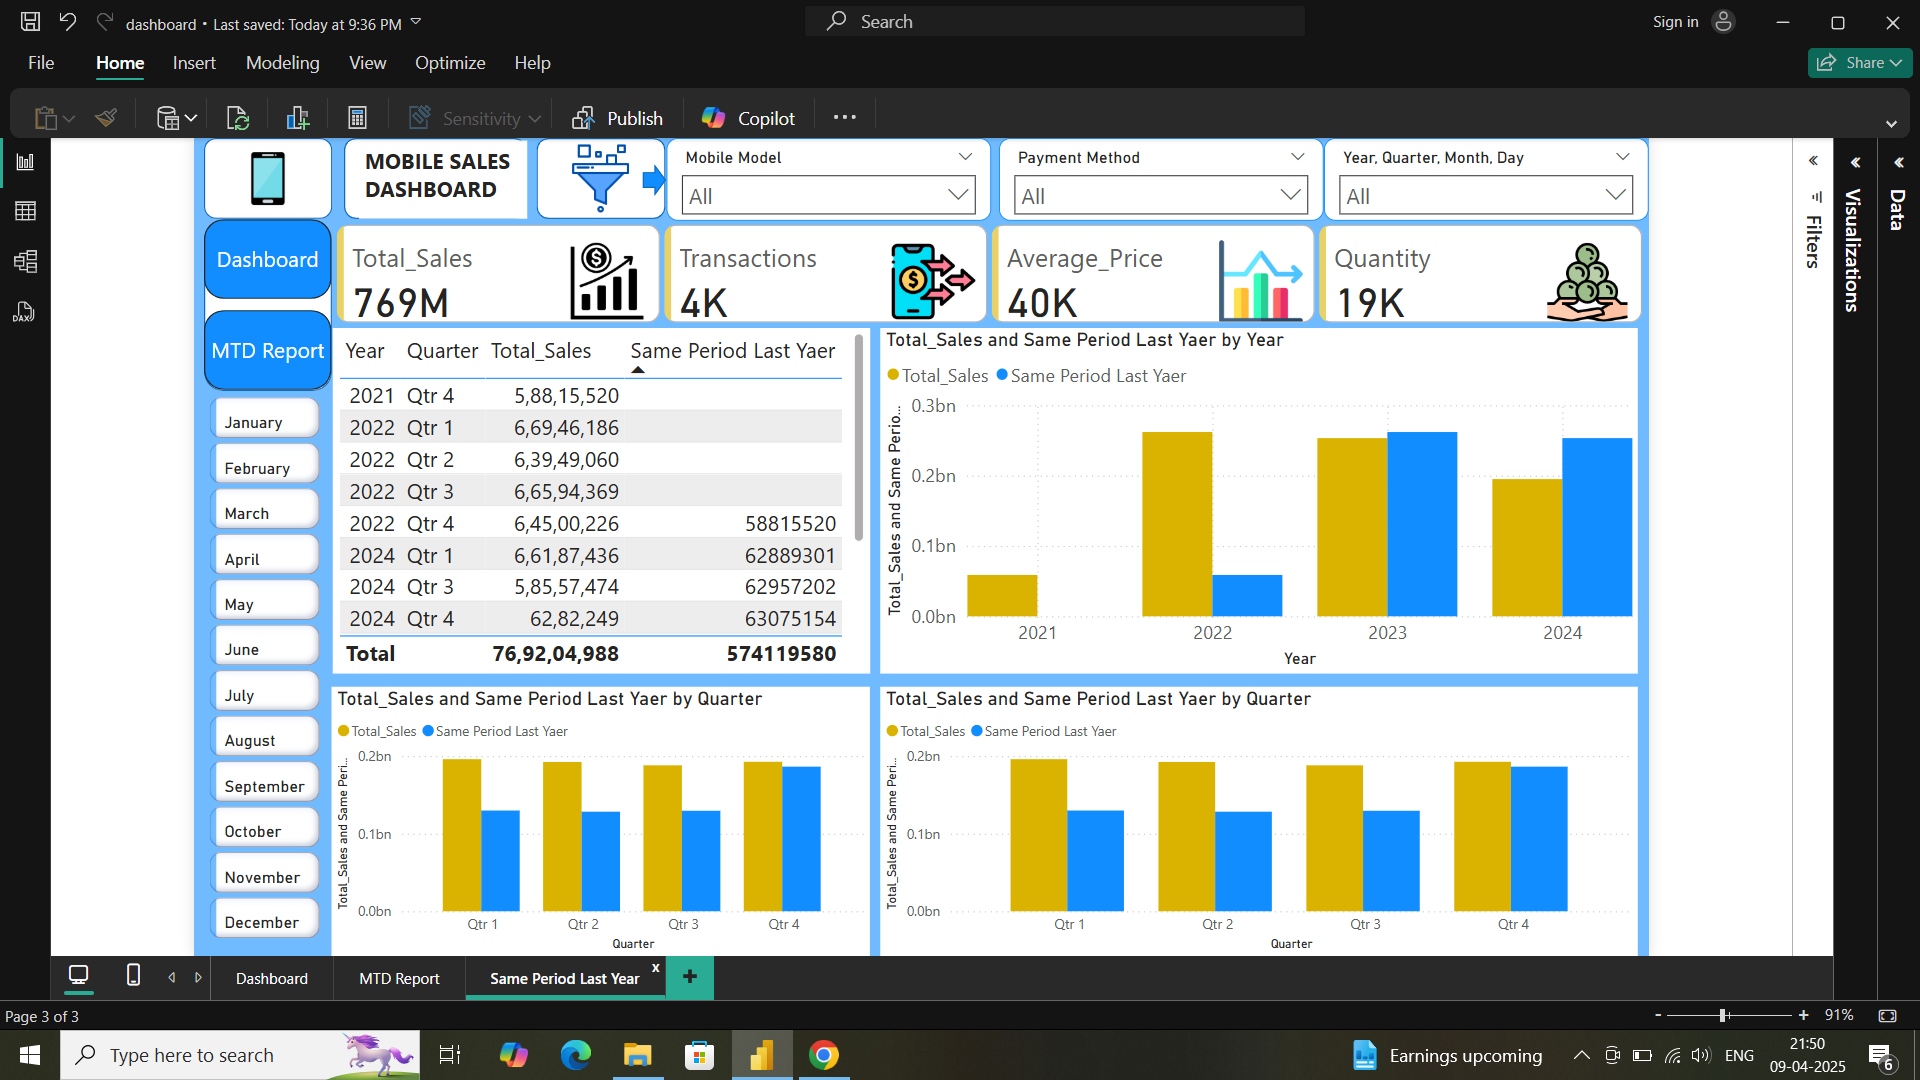

What the dashboard file says about the page in this screenshot:
{"tool":"powerbi","page":{"name":"Same Period Last Year","canvas":[1280,720],"ordinal":2},"visuals":[{"type":"shape","box":[8.6,0,112.9,71.2],"z":0},{"type":"image","box":[19.6,0,90.8,71.2],"z":1000},{"type":"cardVisual","fields":{"Data":["Sales_Data.Total_Sales","Sales_Data.Transactions","Sales_Data.Average_Price","Sales_Data.Quantity"]},"box":[121,71.4,1158.4,96.8],"z":2000},{"type":"slicer","fields":{"Values":["Sales_Data.Mobile Model"]},"box":[415.2,0,285.7,72.6],"z":3000},{"type":"slicer","fields":{"Values":["Custom_Calendar.Date.Variation.Date Hierarchy.Year","Custom_Calendar.Date.Variation.Date Hierarchy.Quarter","Custom_Calendar.Date.Variation.Date Hierarchy.Month","Custom_Calendar.Date.Variation.Date Hierarchy.Day"]},"box":[993.8,0,285.7,72.6],"z":4000},{"type":"slicer","fields":{"Values":["Sales_Data.Payment Method"]},"box":[708.1,0,285.7,72.6],"z":5000},{"type":"shape","box":[301.4,0,113.8,71.4],"z":6000},{"type":"image","box":[292.9,0,130.7,71.4],"z":7000},{"type":"shape","box":[394.6,23,20.6,27.8],"z":8000},{"type":"shape","box":[131.9,0,161,71.4],"z":9000},{"type":"textbox","box":[145.3,2.4,147.7,69],"z":10000},{"type":"advancedSlicerVisual","fields":{"Values":["Custom_Calendar.Date.Variation.Date Hierarchy.Month"]},"box":[8.6,223.1,108,496.9],"z":11000},{"type":"shape","box":[8.8,72.5,112.5,150],"z":12000},{"type":"tableEx","fields":{"Values":["Custom_Calendar.Date.Variation.Date Hierarchy.Year","Custom_Calendar.Date.Variation.Date Hierarchy.Quarter","Sales_Data.Total_Sales","Sales_Data.Same Period Last Yaer"]},"box":[122.5,167.5,472.5,303.8],"z":13000},{"type":"clusteredColumnChart","fields":{"Category":["Custom_Calendar.Date.Variation.Date Hierarchy.Year","Custom_Calendar.Date.Variation.Date Hierarchy.Quarter"],"Y":["Sales_Data.Total_Sales","Sales_Data.Same Period Last Yaer"]},"box":[603.8,167.5,666.2,303.8],"z":14000},{"type":"clusteredColumnChart","fields":{"Category":["Custom_Calendar.Date.Variation.Date Hierarchy.Year","Custom_Calendar.Date.Variation.Date Hierarchy.Quarter"],"Y":["Sales_Data.Total_Sales","Sales_Data.Same Period Last Yaer"]},"box":[121.2,482.5,473.8,237.5],"z":15000},{"type":"clusteredColumnChart","fields":{"Category":["Custom_Calendar.Date.Variation.Date Hierarchy.Year","Custom_Calendar.Date.Variation.Date Hierarchy.Quarter"],"Y":["Sales_Data.Total_Sales","Sales_Data.Same Period Last Yaer"]},"box":[603.8,482.5,666.2,237.5],"z":16000},{"type":"pageNavigator","box":[8.8,71.2,112.5,151.2],"z":17000}]}

Visuals, with their boxes on the page's 1280x720 design canvas (x1, y1, x2, y2). These are canvas units, not pixel positions in the 1920x1080 screenshot, which may show the page scaled, cropped or inside an application window:
shape: {"x1": 9, "y1": 0, "x2": 122, "y2": 71}
image: {"x1": 20, "y1": 0, "x2": 110, "y2": 71}
cardVisual - Sales_Data.Total_Sales x Sales_Data.Transactions: {"x1": 121, "y1": 71, "x2": 1279, "y2": 168}
slicer - Sales_Data.Mobile Model: {"x1": 415, "y1": 0, "x2": 701, "y2": 73}
slicer - Custom_Calendar.Date.Variation.Date Hierarchy.Year x Custom_Calendar.Date.Variation.Date Hierarchy.Quarter: {"x1": 994, "y1": 0, "x2": 1280, "y2": 73}
slicer - Sales_Data.Payment Method: {"x1": 708, "y1": 0, "x2": 994, "y2": 73}
shape: {"x1": 301, "y1": 0, "x2": 415, "y2": 71}
image: {"x1": 293, "y1": 0, "x2": 424, "y2": 71}
shape: {"x1": 395, "y1": 23, "x2": 415, "y2": 51}
shape: {"x1": 132, "y1": 0, "x2": 293, "y2": 71}
textbox: {"x1": 145, "y1": 2, "x2": 293, "y2": 71}
advancedSlicerVisual - Custom_Calendar.Date.Variation.Date Hierarchy.Month: {"x1": 9, "y1": 223, "x2": 117, "y2": 720}
shape: {"x1": 9, "y1": 72, "x2": 121, "y2": 222}
tableEx - Custom_Calendar.Date.Variation.Date Hierarchy.Year x Custom_Calendar.Date.Variation.Date Hierarchy.Quarter: {"x1": 122, "y1": 168, "x2": 595, "y2": 471}
clusteredColumnChart - Custom_Calendar.Date.Variation.Date Hierarchy.Year x Custom_Calendar.Date.Variation.Date Hierarchy.Quarter: {"x1": 604, "y1": 168, "x2": 1270, "y2": 471}
clusteredColumnChart - Custom_Calendar.Date.Variation.Date Hierarchy.Year x Custom_Calendar.Date.Variation.Date Hierarchy.Quarter: {"x1": 121, "y1": 482, "x2": 595, "y2": 720}
clusteredColumnChart - Custom_Calendar.Date.Variation.Date Hierarchy.Year x Custom_Calendar.Date.Variation.Date Hierarchy.Quarter: {"x1": 604, "y1": 482, "x2": 1270, "y2": 720}
pageNavigator: {"x1": 9, "y1": 71, "x2": 121, "y2": 222}
